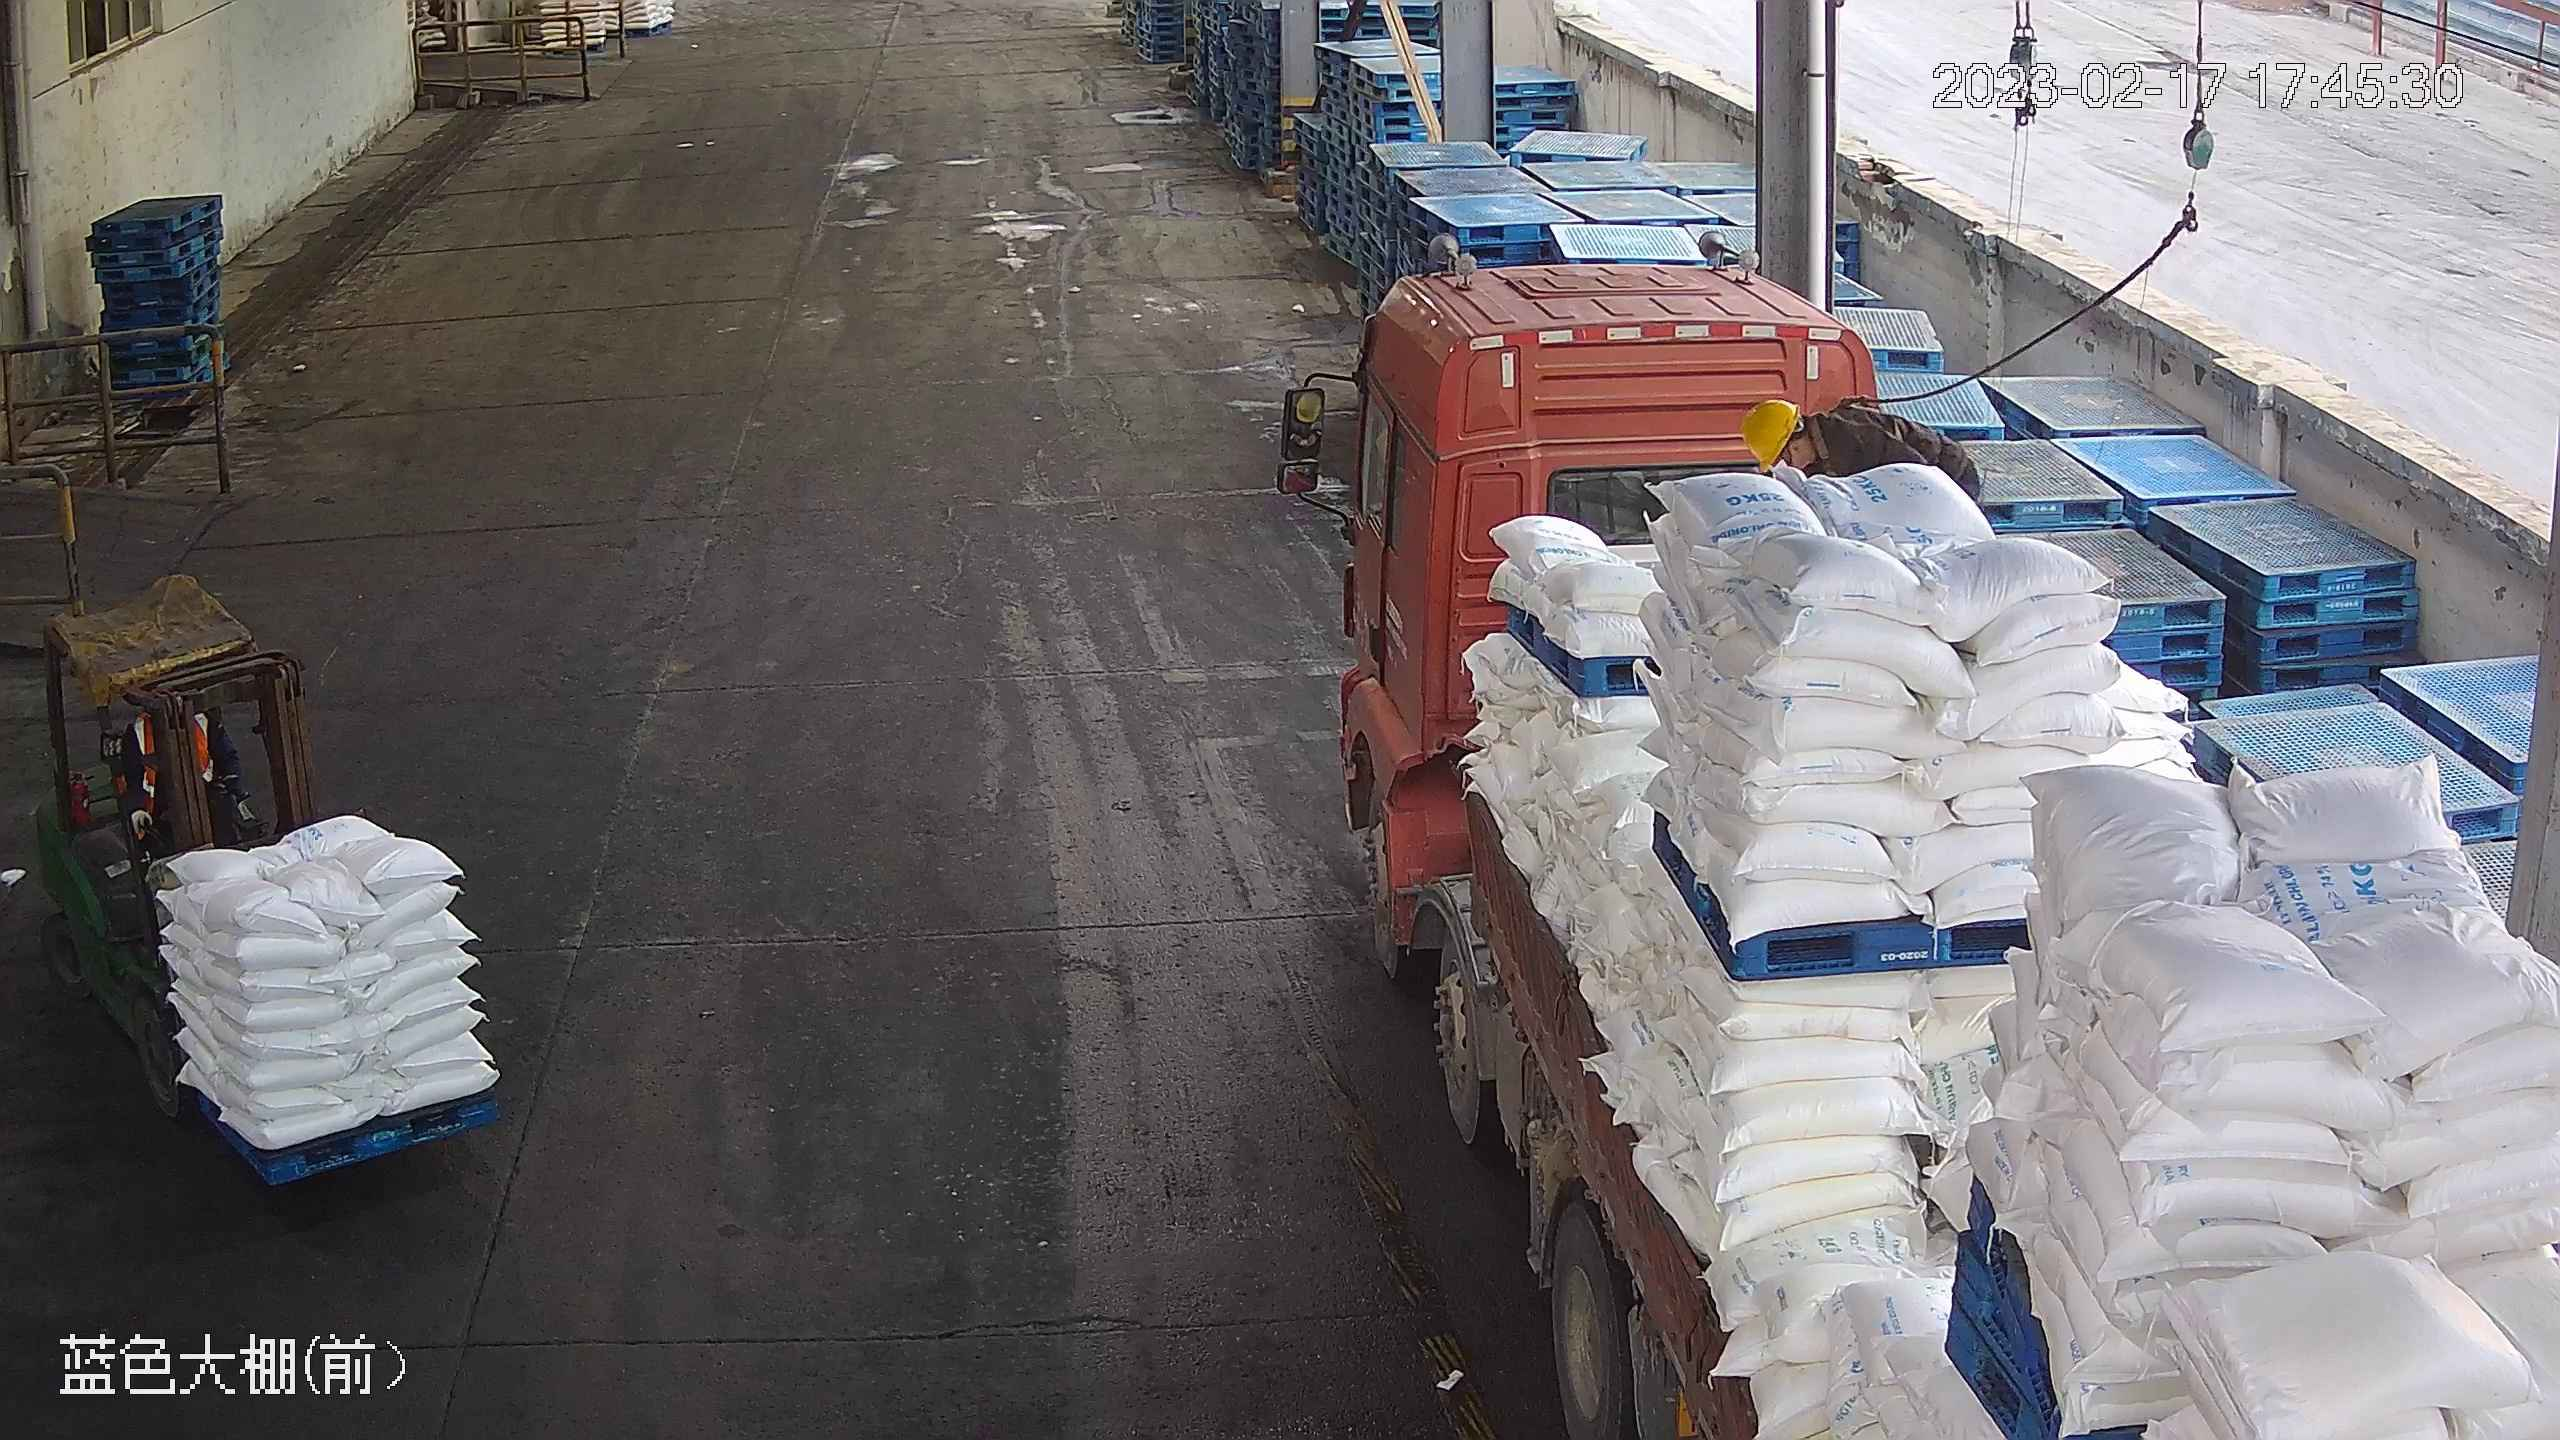belt: (1801, 392, 1903, 473)
head: (1740, 401, 1870, 482)
helmet: (1740, 397, 1802, 475)
truck: (1336, 264, 2560, 1440)
